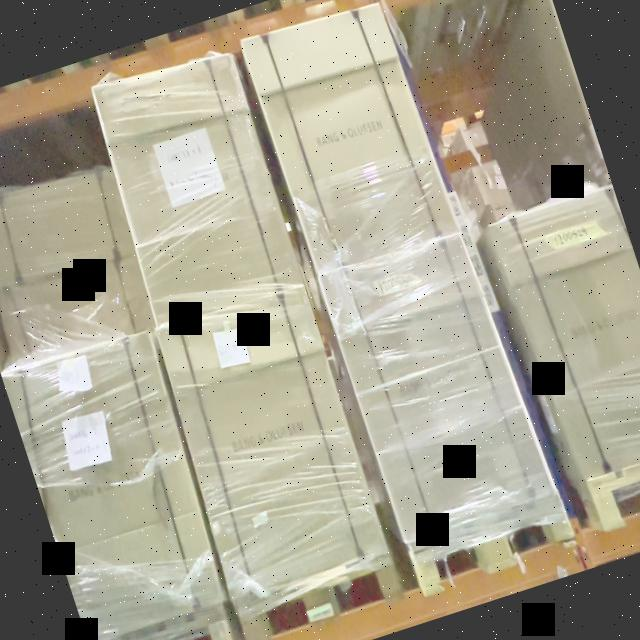box: (318, 230, 559, 548), (155, 284, 389, 598), (242, 0, 463, 279), (92, 55, 303, 326)
